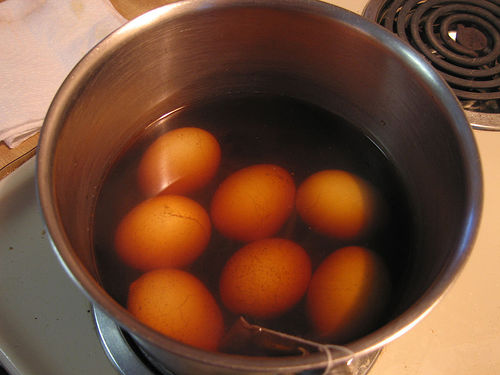egg: (122, 118, 385, 358)
